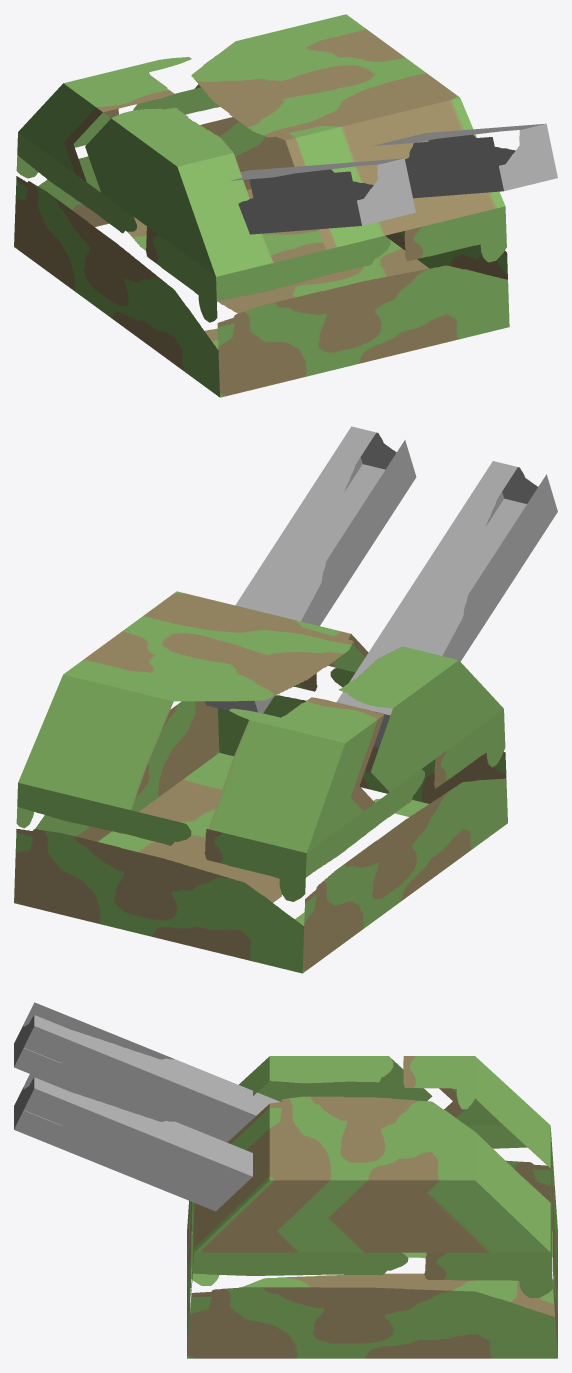
The model's file is AATankTower.FBX.
The picture shows the model from 3 angles, top to bottom: view 1: azimuth 30°, elevation 25°; view 2: azimuth 150°, elevation 25°; view 3: azimuth 270°, elevation 25°; orthographic projection. The views are drawn at different scales.
Parts seen in each view (by area): view 1: Box004; view 2: Box004; view 3: Box004.
Part boxes in pixels (box(x1,y1,x2,y2)): Box004: box(14, 14, 557, 397); Box004: box(14, 426, 557, 973); Box004: box(14, 1002, 557, 1358).
Size of the model in its own units: 1.59 by 1.45 by 2.88.
Materials: 2 (2 with a texture image).
